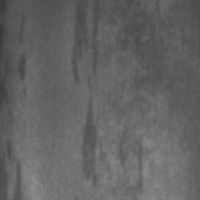inclusion: (69, 2, 107, 194), (11, 12, 39, 100), (113, 126, 147, 196), (0, 135, 29, 199)
